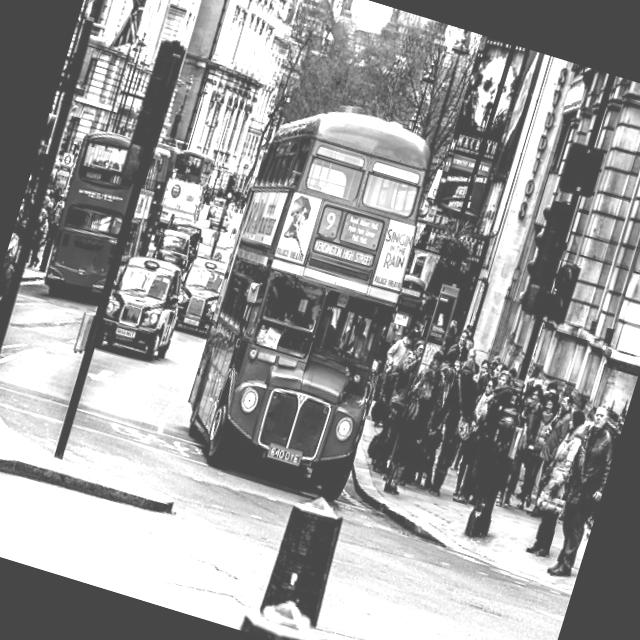Vehicle: (172, 88, 452, 504), (36, 120, 178, 318), (94, 248, 195, 368), (169, 254, 228, 336), (390, 272, 431, 318), (152, 227, 194, 270), (207, 205, 233, 232), (205, 194, 226, 222)
